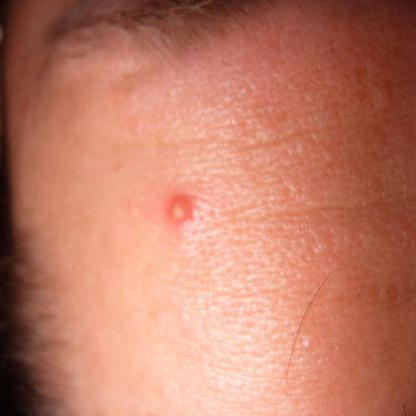Fire ant: (154, 189, 203, 233)
